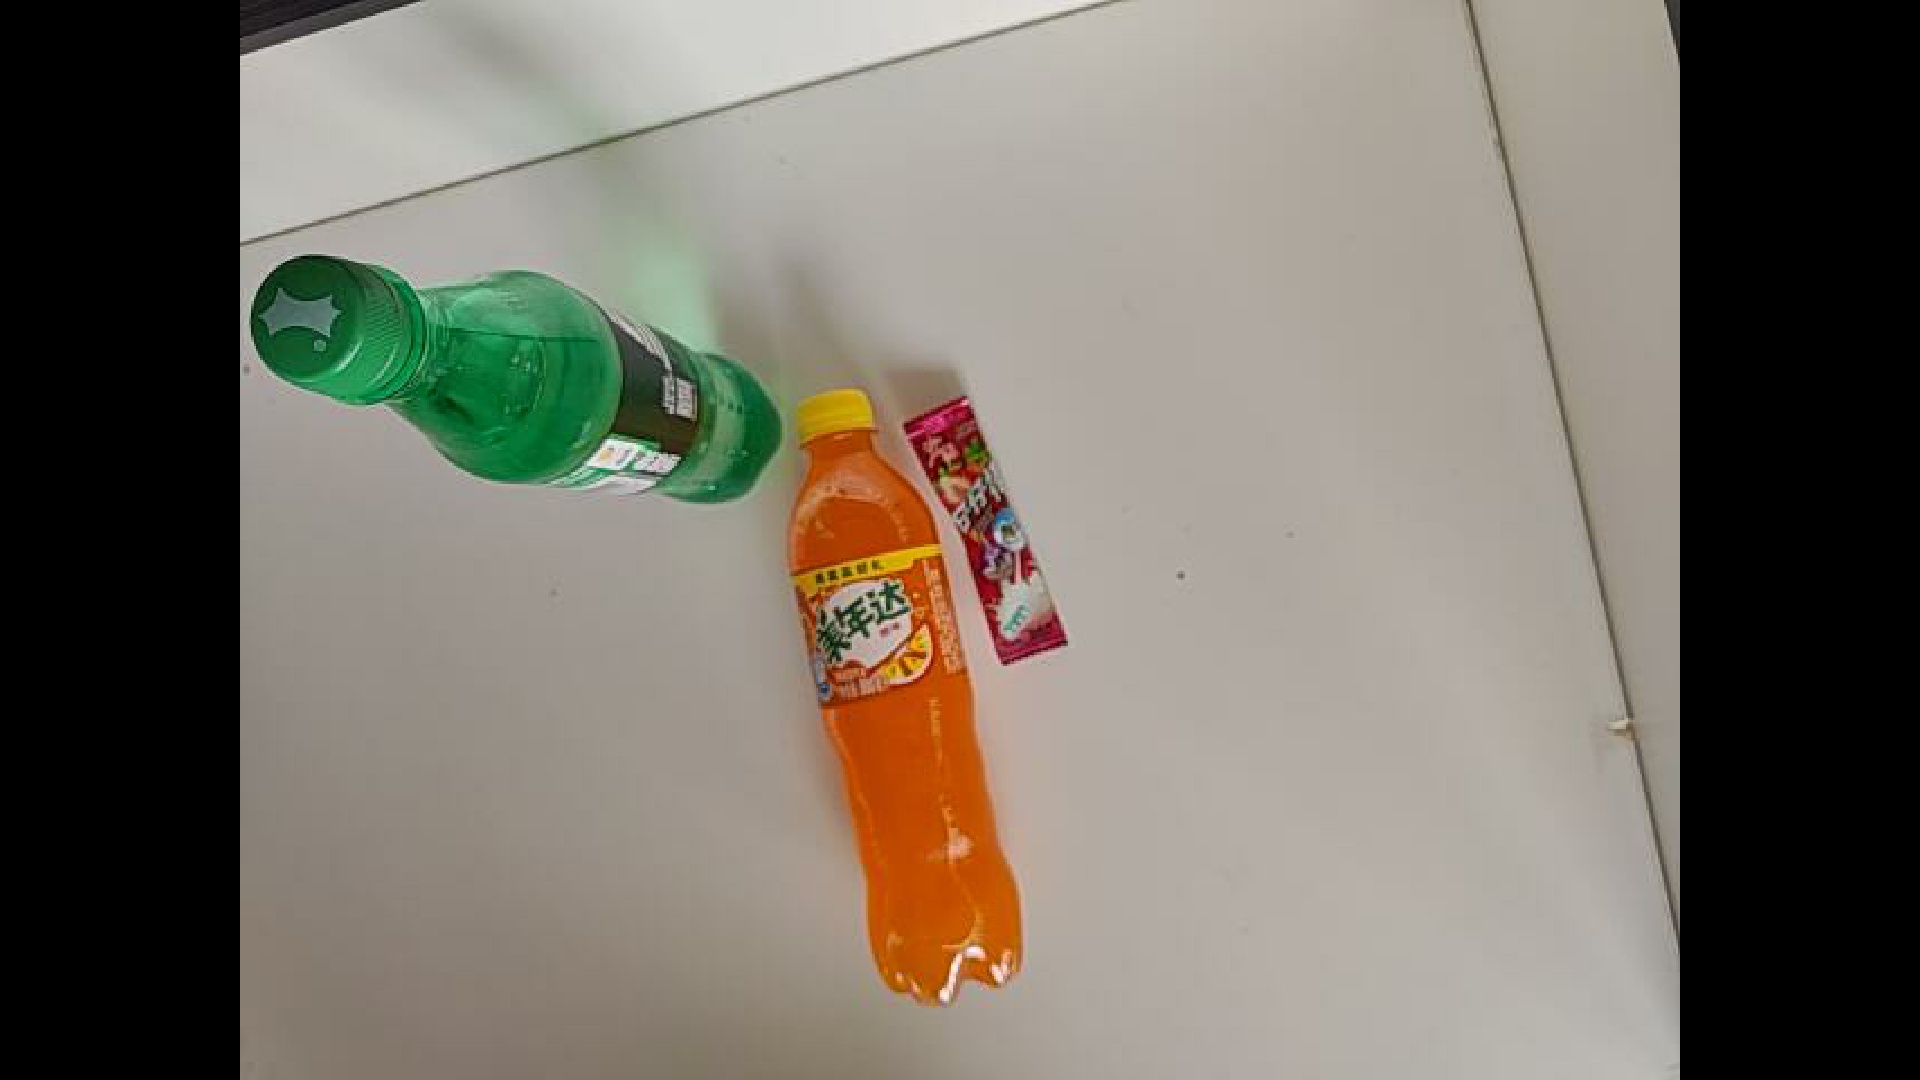fenta: (753, 385, 1139, 1022)
sprite: (248, 252, 783, 505)
sugar: (898, 404, 1154, 674)
